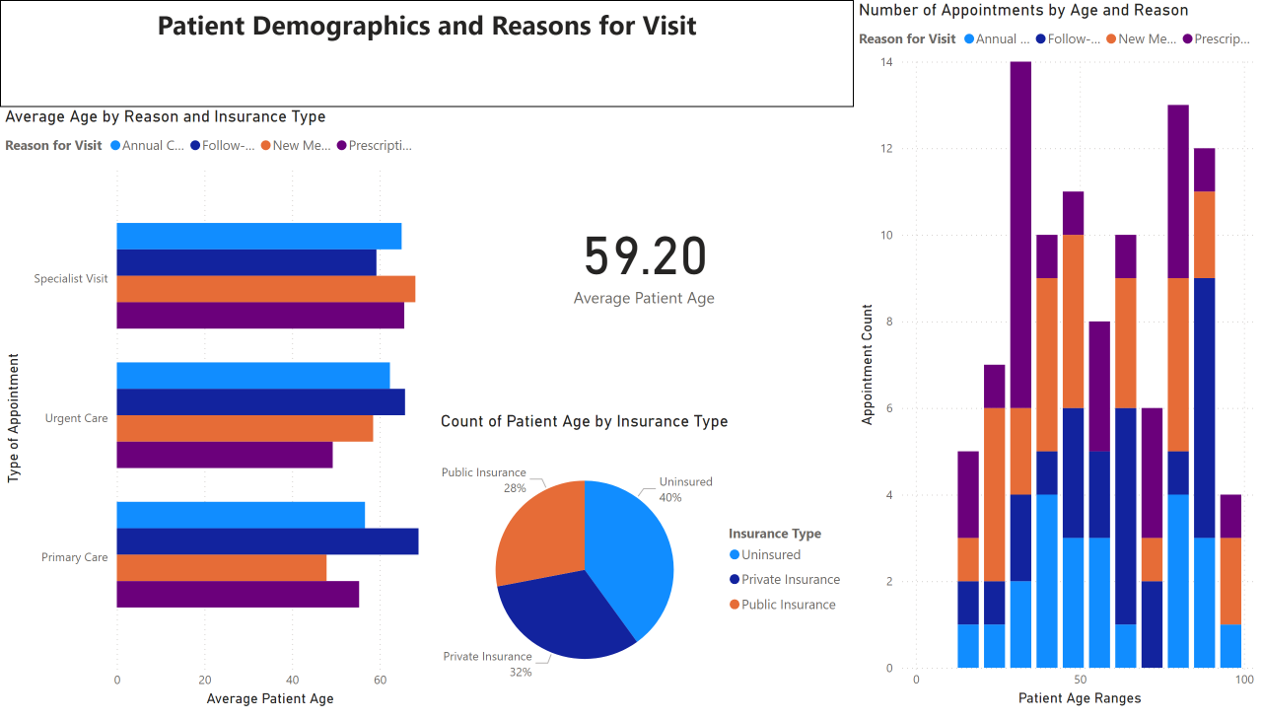

The page's visual inventory and layout, read from the dashboard file:
{"tool":"powerbi","page":{"name":"Patient Demographics and Reasons for Visit","canvas":[1280,720],"ordinal":8},"visuals":[{"type":"clusteredBarChart","title":"Average Age by Reason and Insurance Type","fields":{"Y":["Avg(patient_experience_survey_data.Patient Age)"],"Category":["patient_experience_survey_data.Type of Appointment"],"Series":["patient_experience_survey_data.Reason for Visit"]},"box":[0,108,441.6,612.8],"z":0},{"type":"card","fields":{"Values":["Avg(patient_experience_survey_data.Patient Age)"]},"box":[441.3,108.4,424.7,309.5],"z":1000},{"type":"textbox","box":[0,0,866,108.4],"z":2000},{"type":"pieChart","fields":{"Category":["patient_experience_survey_data.Insurance Type"],"Y":["CountNonNull(patient_experience_survey_data.Patient Age)"]},"box":[441.6,417.3,425,302.5],"z":3000},{"type":"columnChart","title":"Number of Appointments by Age and Reason ","fields":{"Series":["patient_experience_survey_data.Reason for Visit"],"Y":["CountNonNull(patient_experience_survey_data.Type of Appointment)"],"Category":["patient_experience_survey_data.Patient Age (bins)"]},"box":[866,0,414,720.4],"z":4000}]}

Visuals, with their boxes in screenshot pixels (x1, y1, x2, y2), scaled from the page's 1280x720 canvas onto the 1262x720 screenshot:
"Average Age by Reason and Insurance Type" clusteredBarChart: bbox(0, 108, 435, 719)
card - Avg(patient_experience_survey_data.Patient Age): bbox(435, 108, 854, 418)
textbox: bbox(0, 0, 854, 108)
pieChart - patient_experience_survey_data.Insurance Type x CountNonNull(patient_experience_survey_data.Patient Age): bbox(435, 417, 854, 719)
"Number of Appointments by Age and Reason " columnChart: bbox(854, 0, 1261, 719)
